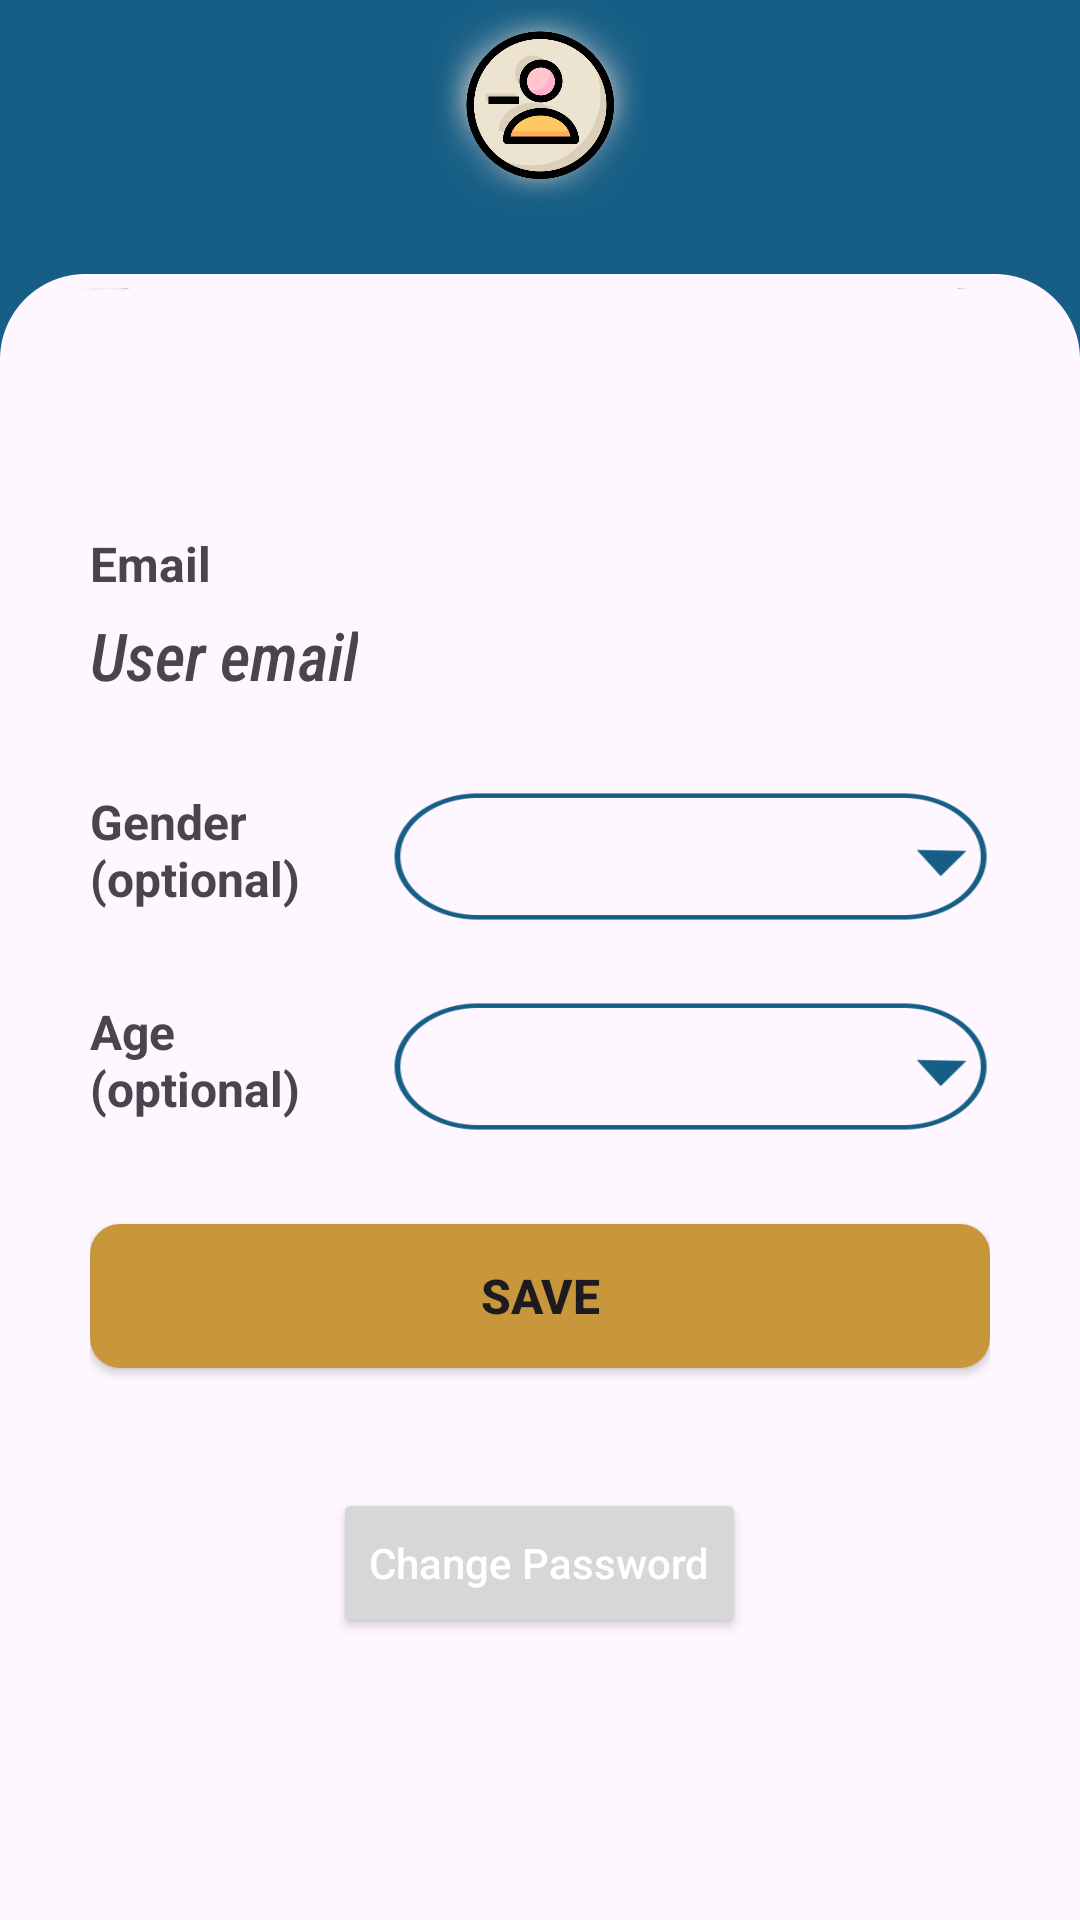

Icon bounding boxes for this 1080 × 1920 phone screenshot, format [x1,y1,x2,y2]:
account: [449,17,630,191]
